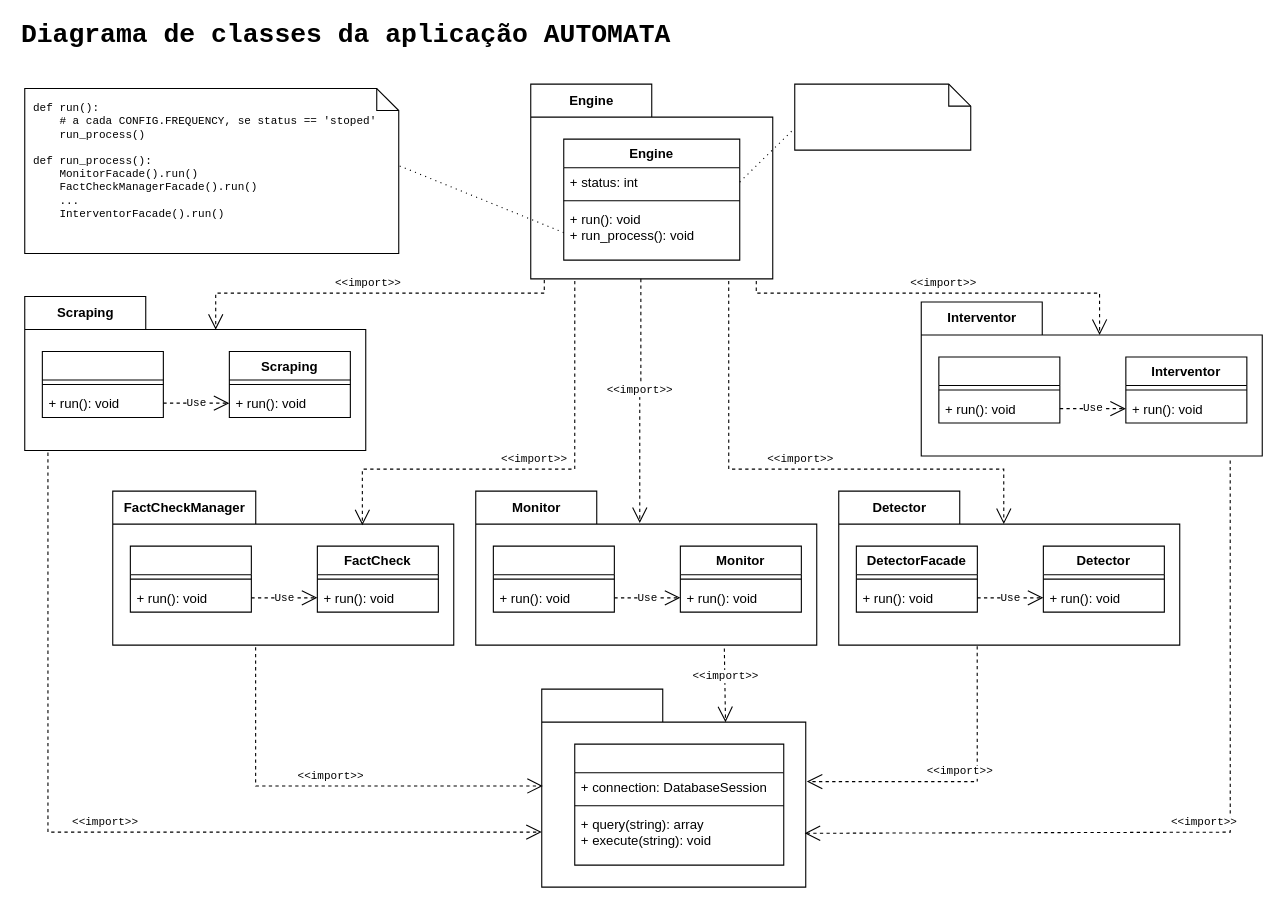
Some shapes in this 1282 by 906 pixel diagram are drawn without their labels. Each missing label, with the box of its shape:
DatabaseWrapper: (574, 743, 784, 865)
FactCheckFacade: (129, 545, 251, 612)
InterventorFacade: (938, 356, 1060, 423)
MonitorFacade: (492, 545, 614, 612)
ORM: (541, 688, 806, 887)
ScrapingFacade: (41, 350, 163, 417)
STATUS: {running, stoped, error}: (794, 83, 971, 150)
